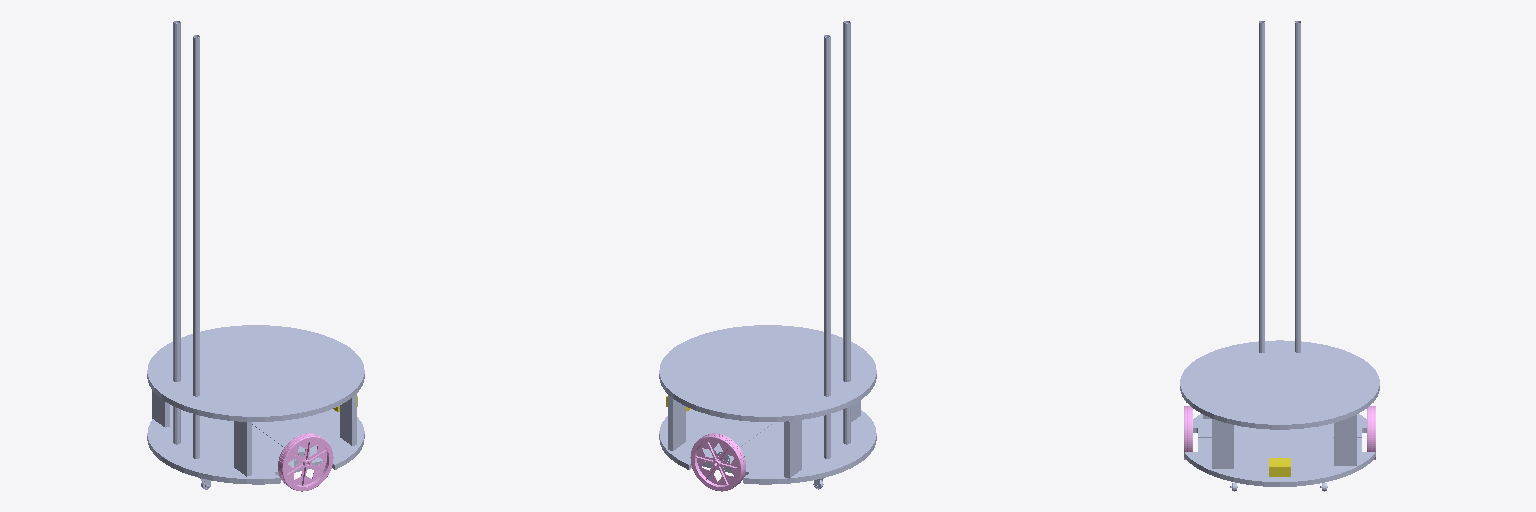
robot.urdf — mobile_rob_dev_sim:
<?xml version="1.0" encoding="utf-8"?>

<robot name="mobile_rob_dev_sim" xmlns:xacro="http://www.ros.org/wiki/xacro">
  <!-- Includes -->
  <!--xacro:include filename="$(find realsense2_description)/urdf/_d435.urdf.xacro" /-->
  <!--xacro:include filename="$(find realsense2_description)/urdf/_d435i.urdf.xacro"/-->

  <link name="base_link">
    <inertial>
      <origin xyz="-0.00461487870734328 0.000366188243899251 0.111305202476825" rpy="0 0 0"/>
      <mass value="8.01860580709809"/>
      <inertia
        ixx="0.156639319017219"   ixy="1.11164438093558E-09"   ixz="-2.73458344436832E-06" 
                                  iyy="0.170503040844609"      iyz="-3.90039384128734E-13"
                                                               izz="0.273984906364084"/>
    </inertial>
    <visual>
      <origin xyz="0 0 0" rpy="0 0 0"/>
      <geometry>
        <mesh filename="package://mobile_rob_dev_sim/meshes/base_link.STL"/>
      </geometry>
      <material name="">
        <color rgba="0.792156862745098 0.819607843137255 0.933333333333333 1"/>
      </material>
    </visual>
    <collision>
      <origin xyz="0 0 0" rpy="0 0 0"/>
      <geometry>
        <mesh filename="package://mobile_rob_dev_sim/meshes/base_link.STL"/>
      </geometry>
    </collision>
  </link>

  <link name="left_wheel">
    <inertial>
      <origin xyz="0 0 0" rpy="0 0 0"/>
      <mass value="0.211162907036622"/>
      <inertia
        ixx="0.000475634940966531"   ixy="1.03328518564722E-21"  ixz="5.23183801417296E-19" 
                                     iyy="0.000931261531604138"  iyz="4.20387846548917E-21" 
                                                                 izz="0.000475634940966532"/>
    </inertial>
    <visual>
      <origin xyz="0 0 0" rpy="0 0 0"/>
      <geometry>
        <mesh filename="package://mobile_rob_dev_sim/meshes/left_wheel.STL"/>
      </geometry>
      <material name="">
        <color rgba="1 0.752941176470588 1 1"/>
      </material>
    </visual>
    <collision>
      <origin xyz="0 0 0" rpy="0 0 0"/>
      <geometry>
        <mesh filename="package://mobile_rob_dev_sim/meshes/left_wheel.STL"/>
      </geometry>
    </collision>
  </link>

  <joint name="left_wheel_joint" type="continuous">
    <origin xyz="0 0.25563 0.035863" rpy="0 0 0"/>
    <parent link="base_link"/>
    <child link="left_wheel"/>
    <axis xyz="0 1 0"/>
  </joint>

  <link name="right_wheel">
    <inertial>
      <origin xyz="1.11022302462516E-16 -1.38777878078145E-17 0" rpy="0 0 0"/>
      <mass value="0.211162907036622"/>
      <inertia
        ixx="0.000475634940966534"   ixy="1.38722267285926E-22"   ixz="6.955139226144E-19" 
                                     iyy="0.000931261531604141"   iyz="4.2270223968197E-21" 
                                                                  izz="0.000475634940966533"/>
    </inertial>
    <visual>
      <origin xyz="0 0 0" rpy="0 0 0"/>
      <geometry>
        <mesh filename="package://mobile_rob_dev_sim/meshes/right_wheel.STL"/>
      </geometry>
      <material name="">
        <color rgba="1 0.752941176470588 1 1"/>
      </material>
    </visual>
    <collision>
      <origin xyz="0 0 0" rpy="0 0 0"/>
      <geometry>
        <mesh filename="package://mobile_rob_dev_sim/meshes/right_wheel.STL"/>
      </geometry>
    </collision>
  </link>

  <joint name="right_wheel_joint" type="continuous">
    <origin xyz="0 -0.25563 0.035863" rpy="0 0 0"/>
    <parent link="base_link"/>
    <child link="right_wheel"/>
    <axis xyz="0 1 0"/>
  </joint>

  <transmission name="left_wheel_transmission">
  	<type>transmission_interface/SimpleTransmission</type>
  	<joint name="left_wheel_joint">
  		<hardwareInterface>hardware_interface/VelocityJointInterface</hardwareInterface>
  	</joint>
  	<actuator name="left_wheel_actuator">
  		<mecanicalReduction>7</mecanicalReduction>
  		<mecanicalReduction>VelocityJointInterface</mecanicalReduction>
  	</actuator>
  </transmission>

  <transmission name="right_wheel_transmission">
  	<type>transmission_interface/SimpleTransmission</type>
  	<joint name="right_wheel_joint">
  		<hardwareInterface>hardware_interface/VelocityJointInterface</hardwareInterface>
  	</joint>
  	<actuator name="right_wheel_actuator">
  		<mecanicalReduction>7</mecanicalReduction>
  		<mecanicalReduction>VelocityJointInterface</mecanicalReduction>
  	</actuator>
  </transmission>

  <gazebo>
    <plugin name="differential_drive_controller" filename="libgazebo_ros_diff_drive.so">
      <alwaysOn>true</alwaysOn>
      <updateRate>40</updateRate>
      <legacyMode>false</legacyMode>
      <leftJoint>left_wheel_joint</leftJoint>
      <rightJoint>right_wheel_joint</rightJoint>
      <wheelSeparation>0.50</wheelSeparation>
      <wheelDiameter>0.15</wheelDiameter>
      <torque>15</torque>
      <commandTopic>robot/cmd_vel</commandTopic>
      <odometryTopic>odom</odometryTopic>
      <odometryFrame>odom</odometryFrame>
      <robotBaseFrame>base_link</robotBaseFrame>
      <publishWheelTF>true</publishWheelTF>
      <publishWheelJointState>false</publishWheelJointState>
      <rosDebugLevel>na</rosDebugLevel>
      <wheelAcceleration>0</wheelAcceleration>
      <wheelTorque>15</wheelTorque>
      <odometrySource>world</odometrySource>
      <publishOdomTF>true</publishOdomTF>
      <publishTf>1</publishTf>
    </plugin>
  </gazebo>
  
  <!--sonar front base-->
<!--   <link name="base_sonar_front">
    <collision>
      <origin xyz="0 0 0" rpy="0 0 0"/>
      <geometry>true
    </collision>
    <visual>
      <origin xyz="0 0 0" rpy="0 0 0"/>
      <geometry>
        <box size="0.01 0.03 0.01"/>
      </geometry>
    </visual>
    <inertial>
      <mass value="1e-5"/>
      <origin xyz="0 0 0" rpy="0 0 0"/>
      <inertia ixx="1e-6" ixy="0" ixz="0" iyy="1e-6" iyz="0"      izz="1e-6"/>
    </inertial>
  </link> -->

<!--   <joint name="sonar_front_joint" type="fixed">
    <axis xyz="0 1 0"/>
    <origin xyz="0.27 0 0.175" rpy="0 0 0"/>
    <parent link="base_link"/>
    <child link="base_sonar_front"/>
  </joint>
   -->
<!--   <gazebo reference="base_sonar_front">     
   <sensor type="ray" name="TeraRanger">
      <pose>0 0 0 0 0 0</pose>
      <visualize>true</visualize>
      <update_rate>50</update_rate>
      <ray>
         <scan>
            <horizontal>
               <samples>10</samples>
               <resolution>1</resolution> 
               <min_angle>-0.14835</min_angle>
               <max_angle>0.14835</max_angle>
            </horizontal>
            <vertical>
               <samples>10</samples>
               <resolution>1</resolution> 
               <min_angle>-0.14835</min_angle>
               <max_angle>0.14835</max_angle> 
            </vertical>
         </scan>
         <range>
            <min>0.01</min>
            <max>2</max>
            <resolution>0.02</resolution>
         </range>
      </ray>
      <plugin filename="libgazebo_ros_range.so" name="gazebo_ros_range">
         <gaussianNoise>0.005</gaussianNoise>
         <alwaysOn>true</alwaysOn>
         <updateRate>50</updateRate>
         <topicName>sonar_front</topicName>
         <frameName>base_sonar_front</frameName>
         <radiation>ULTRASOUND</radiation>
         <fov>0.2967</fov>
      </plugin>
   </sensor>  
  </gazebo> -->

  <!--sonar back base-->
<!--   <link name="base_sonar_back">
    <collision>
      <origin xyz="0 0 0" rpy="0 0 0"/>
      <geometry>
        <box size="0.01 0.03 0.01"/>
      </geometry>
    </collision>
    <visual>
      <origin xyz="0 0 0" rpy="0 0 0"/>
      <geometry>
        <box size="0.01 0.03 0.01"/>
      </geometry>
    </visual>
    <inertial>
      <mass value="1e-5"/>
      <origin xyz="0 0 0" rpy="0 0 0"/>
      <inertia ixx="1e-6" ixy="0" ixz="0" iyy="1e-6" iyz="0"      izz="1e-6"/>
    </inertial>
  </link> -->

<!--   <joint name="sonar_back_joint" type="fixed">
    <axis xyz="0 1 0"/>
    <origin xyz="-0.27 0 0.175" rpy="0 0 3.14"/>
    <parent link="base_link"/>
    <child link="base_sonar_back"/>
  </joint>   --> 
  
  <!--   <gazebo reference="base_sonar_back">     
   <sensor type="ray" name="TeraRanger">
      <pose>0 0 0 0 0 0</pose>
      <visualize>true</visualize>
      <update_rate>50</update_rate>
      <ray>
         <scan>
            <horizontal>
               <samples>10</samples>
               <resolution>1</resolution> 
               <min_angle>-0.14835</min_angle>
               <max_angle>0.14835</max_angle>
            </horizontal>
            <vertical>
               <samples>10</samples>
               <resolution>1</resolution> 
               <min_angle>-0.14835</min_angle>
             1.0turn  <max_angle>0.14835</max_angle> 
            </vertical>
         </scan>
         <range>
            <min>0.01</min>
            <max>2</max>
            <resolution>0.02</resolution>
         </range>
      </ray>
      <plugin filename="libgazebo_ros_range.so" name="gazebo_ros_range">
         <gaussianNoise>0.005</gaussianNoise>
         <alwaysOn>true</alwaysOn>
         <updateRate>50</updateRate>
         <topicName>sonar_back</topicName>
         <frameName>base_sonar_back</frameName>
         <radiation>ULTRASOUND</radiation>
         <fov>0.2967</fov>
      </plugin>
   </sensor>  
  </gazebo> -->

  <!-- Camera RealSense -->
  <!--   <xacro:sensor_d435i parent="base_link" name="camera">
    <origin xyz="0.237 0 0.206" rpy="0 0 0"/>
  </xacro:sensor_d435i> -->

  <!--rplidar_base-->
  <link name="base_rplidar">
    <collision>
      <origin xyz="0 0 0" rpy="0 0 0"/>
      <geometry>
        <box size="0.06 0.06 0.03"/>
      </geometry>
    </collision>
    <visual>
      <origin xyz="0 0 0" rpy="0 0 0"/>
      <geometry>
        <box size="0.06 0.06 0.03"/>
      </geometry>
    </visual>
    <inertial>
      <mass value="1e-5"/>
      <origin xyz="0 0 0" rpy="0 0 0"/>
      <inertia
        ixx="1e-6" ixy="0"    ixz="0"
                   iyy="1e-6" iyz="0" 
                              izz="1e-6"/>
    </inertial>
  </link>

  <joint name="rplidar_joint" type="fixed">
    <axis xyz="0 1 0"/>
    <origin xyz="0.255 0 0.05" rpy="0 0 0"/>
    <parent link="base_link"/>
    <child link="base_rplidar"/>
  </joint>  
  
  <gazebo reference="base_rplidar">
    <sensor type="ray" name="head_hokuyo_sensor">
      <pose>0 0 0 0 0 0</pose>
      <visualize>true</visualize>
      <update_rate>40</update_rate>
      <ray>
        <scan>
          <horizontal>
            <samples>720</samples>
            <resolution>1</resolution>
            <min_angle>-1.570796</min_angle>
            <max_angle>1.570796</max_angle>
          </horizontal>
        </scan>
        <range>
          <min>0.10</min>
          <max>12.0</max>
          <resolution>0.01</resolution>
        </range>
        <noise>
          <type>gaussian</type>
          <!-- Noise parameters based on published spec for Hokuyo laser
               achieving "+-30mm" accuracy at range < 10m.  A mean of 0.0m and
               stddev of 0.01m will put 99.7% of samples within 0.03m of the true
               reading. -->
          <mean>0.0</mean>
          <stddev>0.01</stddev>
        </noise>
      </ray>
      <plugin name="gazebo_ros_head_hokuyo_controller" filename="libgazebo_ros_laser.so">
        <topicName>scan</topicName>
        <frameName>base_rplidar</frameName>
      </plugin>
    </sensor>
  </gazebo> 
</robot>

--- What the picture shows (computed from the rendered views, not written in the file) ---
3 views of the same robot in one strip: view 1: azimuth 30°, elevation 25°; view 2: azimuth 150°, elevation 25°; view 3: azimuth 270°, elevation 25° (orthographic).
Model mobile_rob_dev_sim with 4 links and 3 joints (2 continuous, 1 fixed), rooted at base_link, posed all joints at 0.
Links seen in each view (by area): view 1: base_link, right_wheel; view 2: base_link, left_wheel; view 3: base_link.
Link boxes in pixels (x1=…): base_link: x1=147, y1=21, x2=364, y2=489; right_wheel: x1=278, y1=433, x2=333, y2=491; base_link: x1=659, y1=21, x2=876, y2=489; left_wheel: x1=690, y1=433, x2=745, y2=491; base_link: x1=1180, y1=21, x2=1379, y2=491.
Bounding box of the posed robot: 0.565 × 0.5595 × 1.25 m (x, y, z).
3 mesh visuals loaded from 3 distinct referenced files (3 binary STL).
